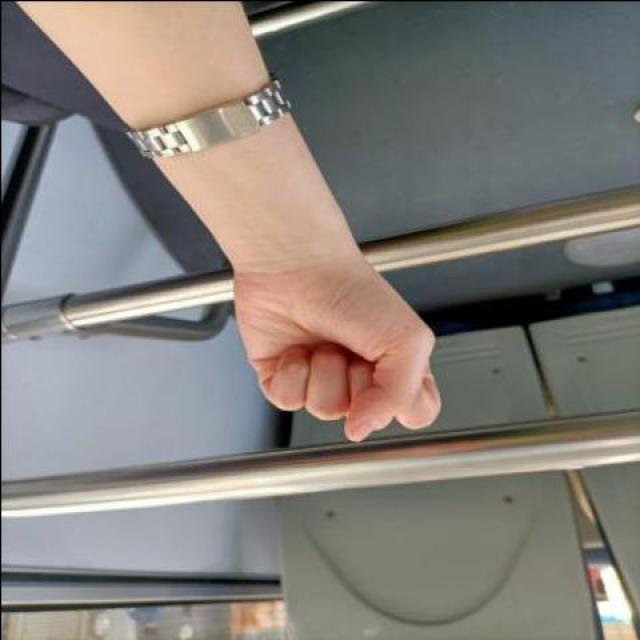fist: (208, 235, 448, 438)
